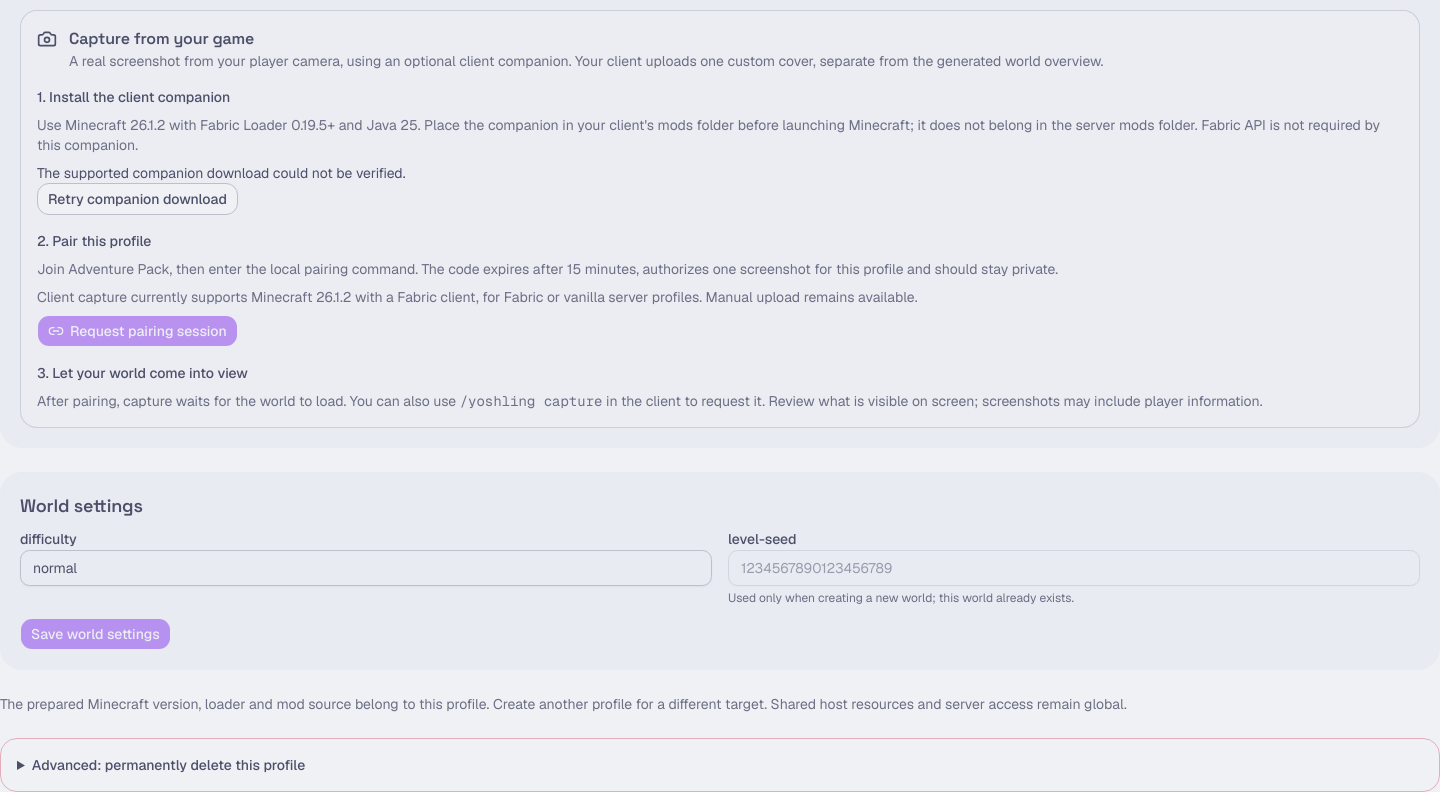
Test: inactive profile editing › keeps generated-world seed read-only and saves only an inactive difficulty with its revision
(page scrolled)
Expected: the field labelled "level-seed" is disabled, [728,550,1420,586]
Replace the text in the field labelled "difficulty" with "hard" at (366, 568), box [20,550,712,586]
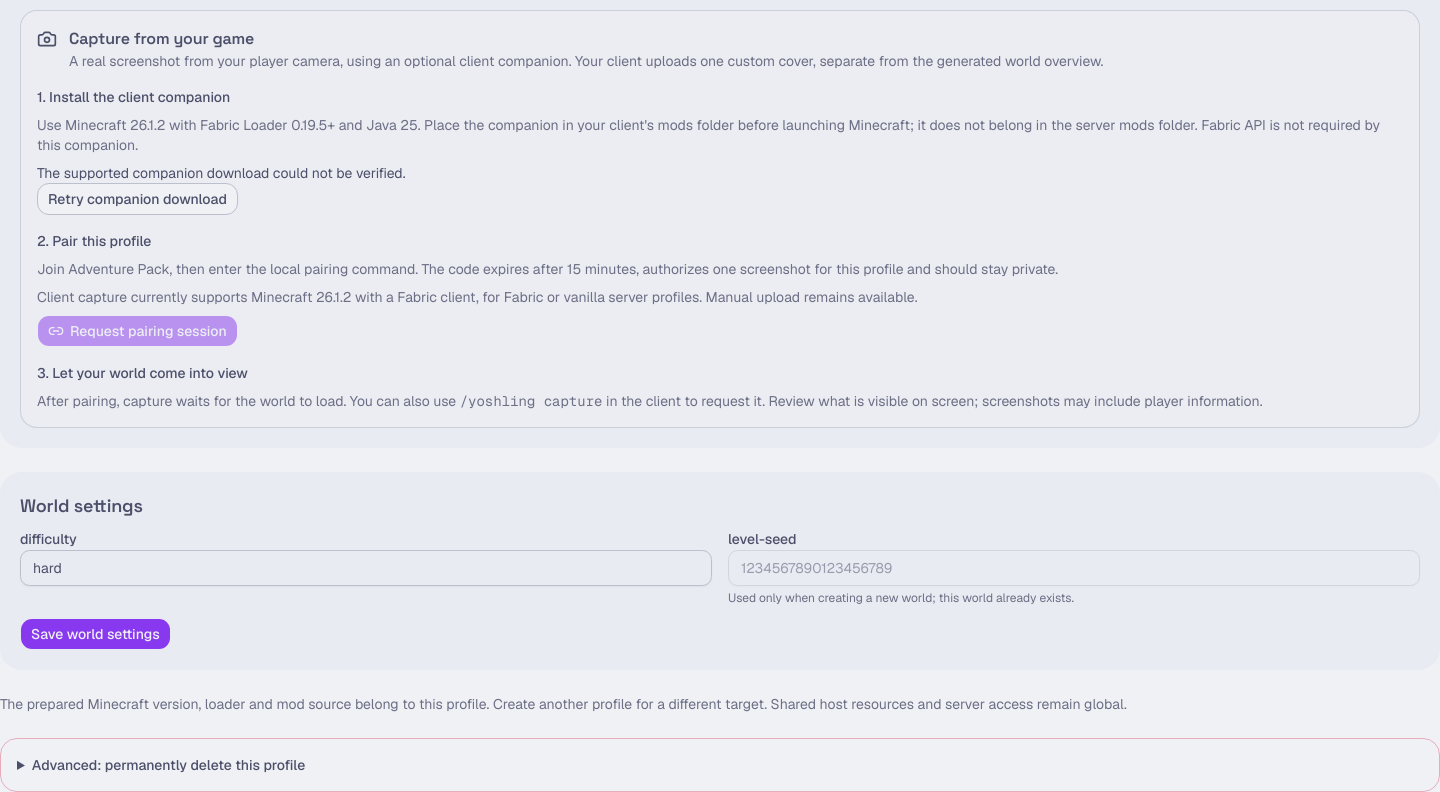
Click the button "Save world settings" at (95, 634), box [20,618,171,650]
(page scrolled)
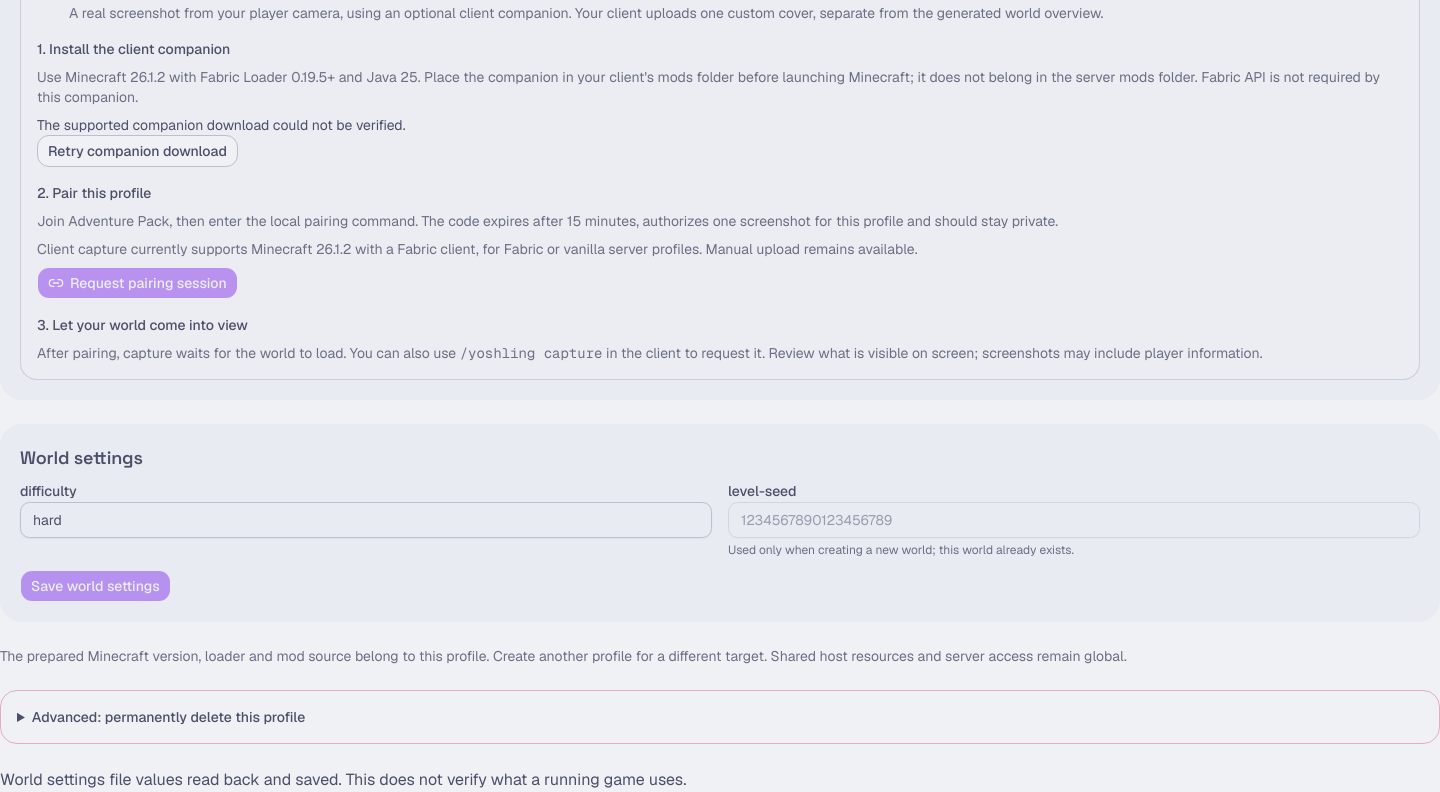
Result: the text "World settings file values read back and saved" is shown at [0,768,686,790]
